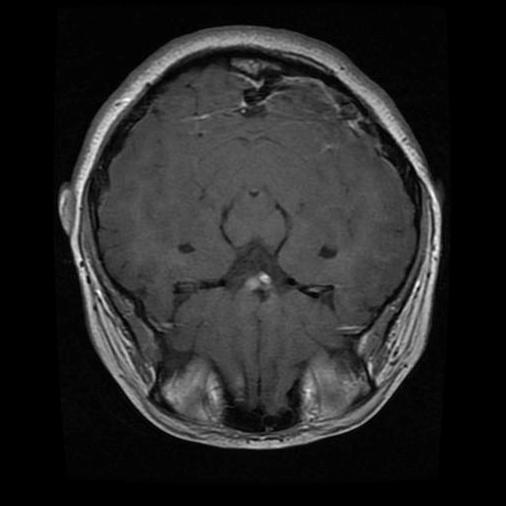Tumour-Pituitary: (259, 272, 271, 290)
